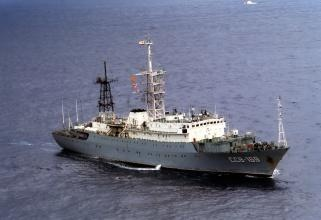warship: (51, 37, 298, 178)
